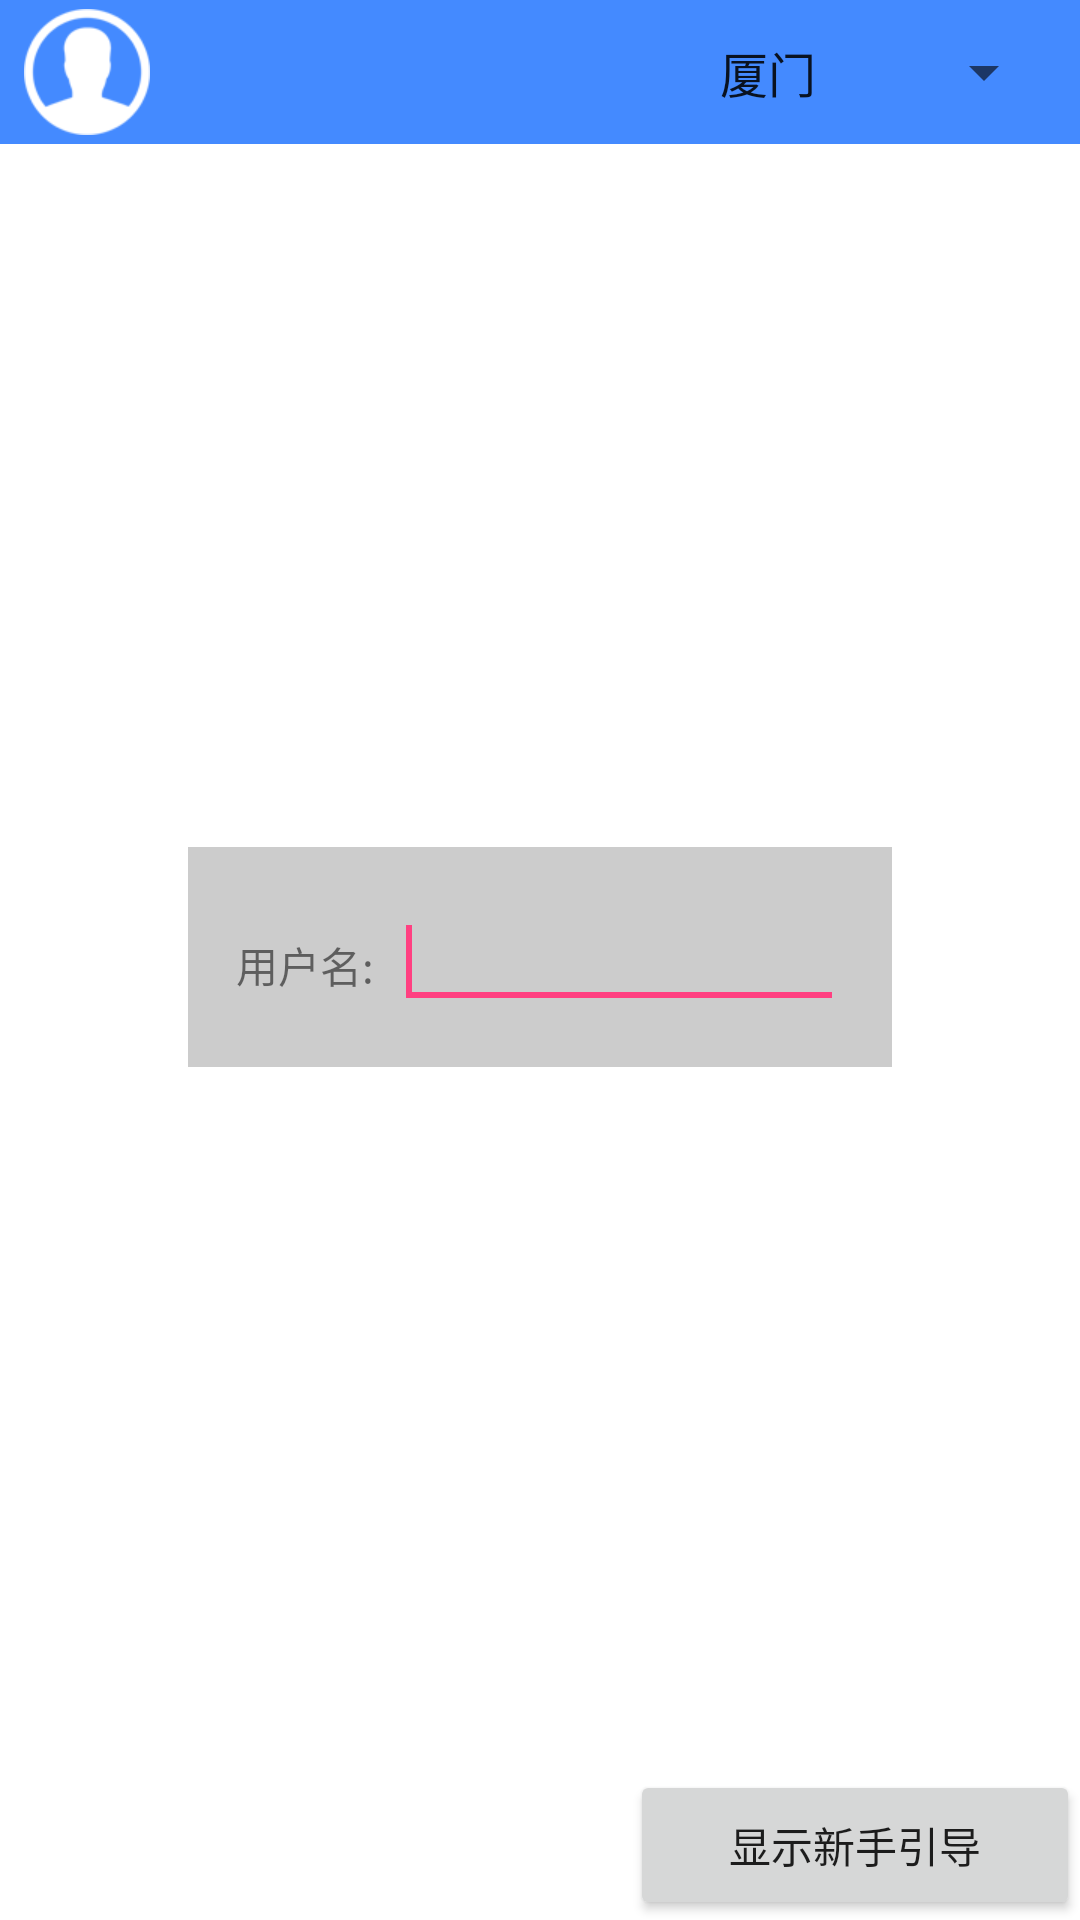

Screen size 1080*1920. Icon name, then its center in pixels as (x=x, y=y):
user: (x=87, y=72)
